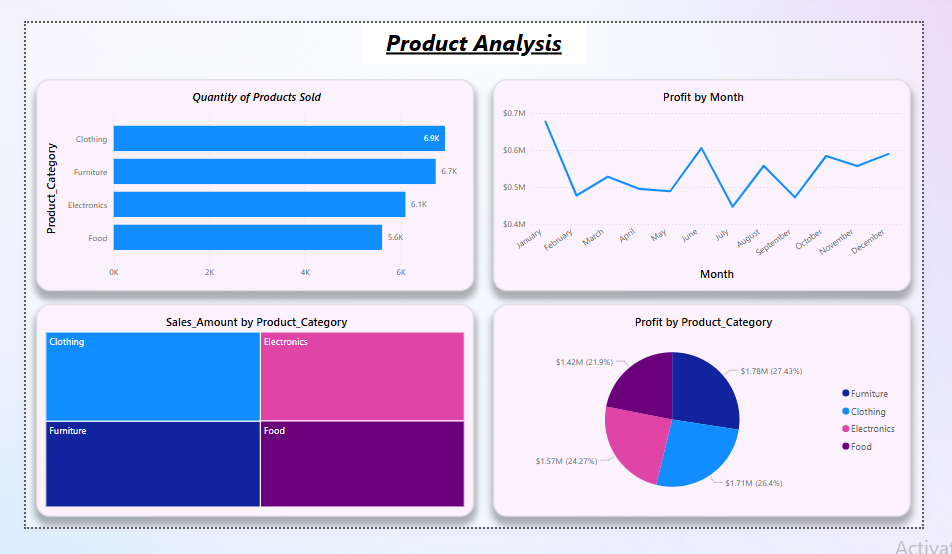

The dashboard page shown, as its layout file describes it:
{"tool":"powerbi","page":{"name":"Product Analysis","canvas":[1280,720],"ordinal":0},"visuals":[{"type":"barChart","title":"Quantity of Products Sold","fields":{"Y":["Sum(Sheet1.Quantity_Sold)"],"Category":["Sheet1.Product_Category"]},"box":[13.8,79.8,626.2,302.8],"z":0},{"type":"textbox","box":[481.7,0,316.6,59.2],"z":1000},{"type":"treemap","title":"Sales_Amount by Product_Category","fields":{"Values":["Sum(Sheet1.Sales_Amount)"],"Group":["Sheet1.Product_Category"]},"box":[13.8,401.9,626.2,304.2],"z":2000},{"type":"lineChart","title":"Profit by Month","fields":{"Y":["Sum(Sheet1.Profit)"],"Category":["Sheet1.Sale_Date.Variation.Date Hierarchy.Month"]},"box":[667.5,79.8,597.3,302.8],"z":3000},{"type":"pieChart","title":"Profit by Product_Category","fields":{"Category":["Sheet1.Product_Category"],"Y":["Sum(Sheet1.Profit)"]},"box":[667.5,401.9,597.3,304.2],"z":4000}]}

Visuals, with their boxes on the page's 1280x720 design canvas (x1, y1, x2, y2). These are canvas units, not pixel positions in the 952x554 screenshot, which may show the page scaled, cropped or inside an application window:
"Quantity of Products Sold" barChart: <bbox>14, 80, 640, 383</bbox>
textbox: <bbox>482, 0, 798, 59</bbox>
"Sales_Amount by Product_Category" treemap: <bbox>14, 402, 640, 706</bbox>
"Profit by Month" lineChart: <bbox>668, 80, 1265, 383</bbox>
"Profit by Product_Category" pieChart: <bbox>668, 402, 1265, 706</bbox>
